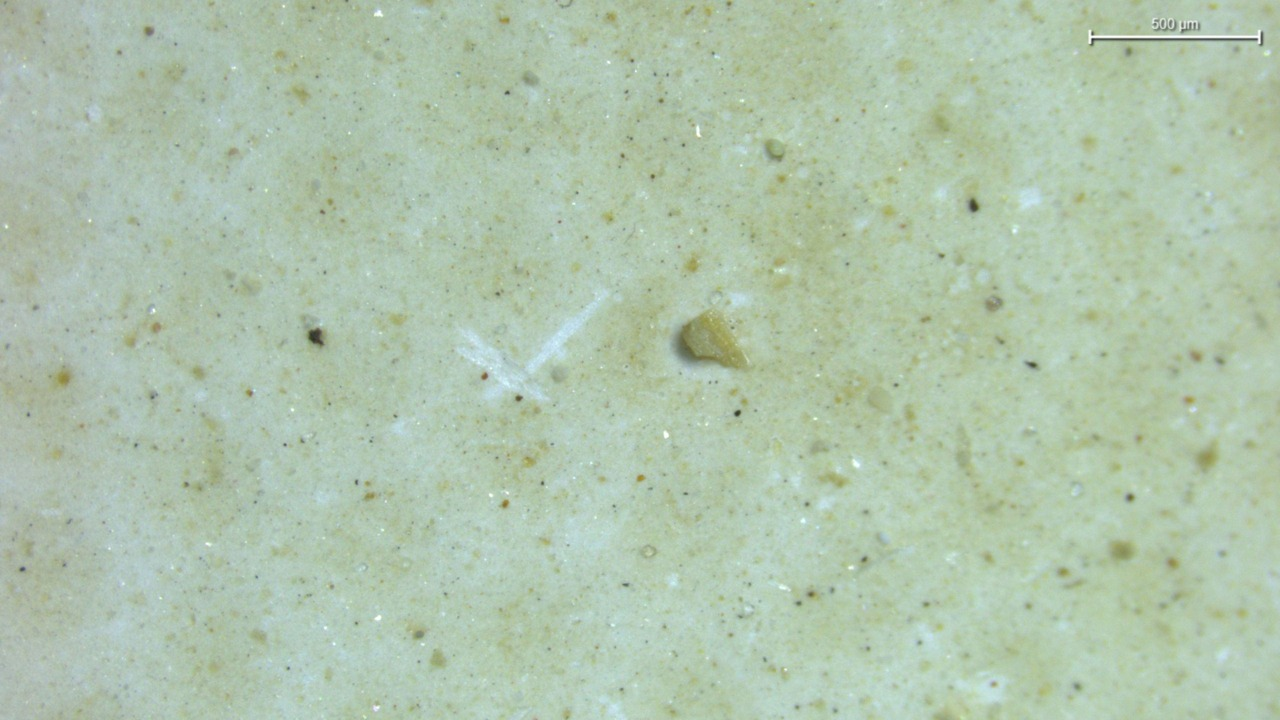microplastic_fragment: (682, 310, 747, 367)
